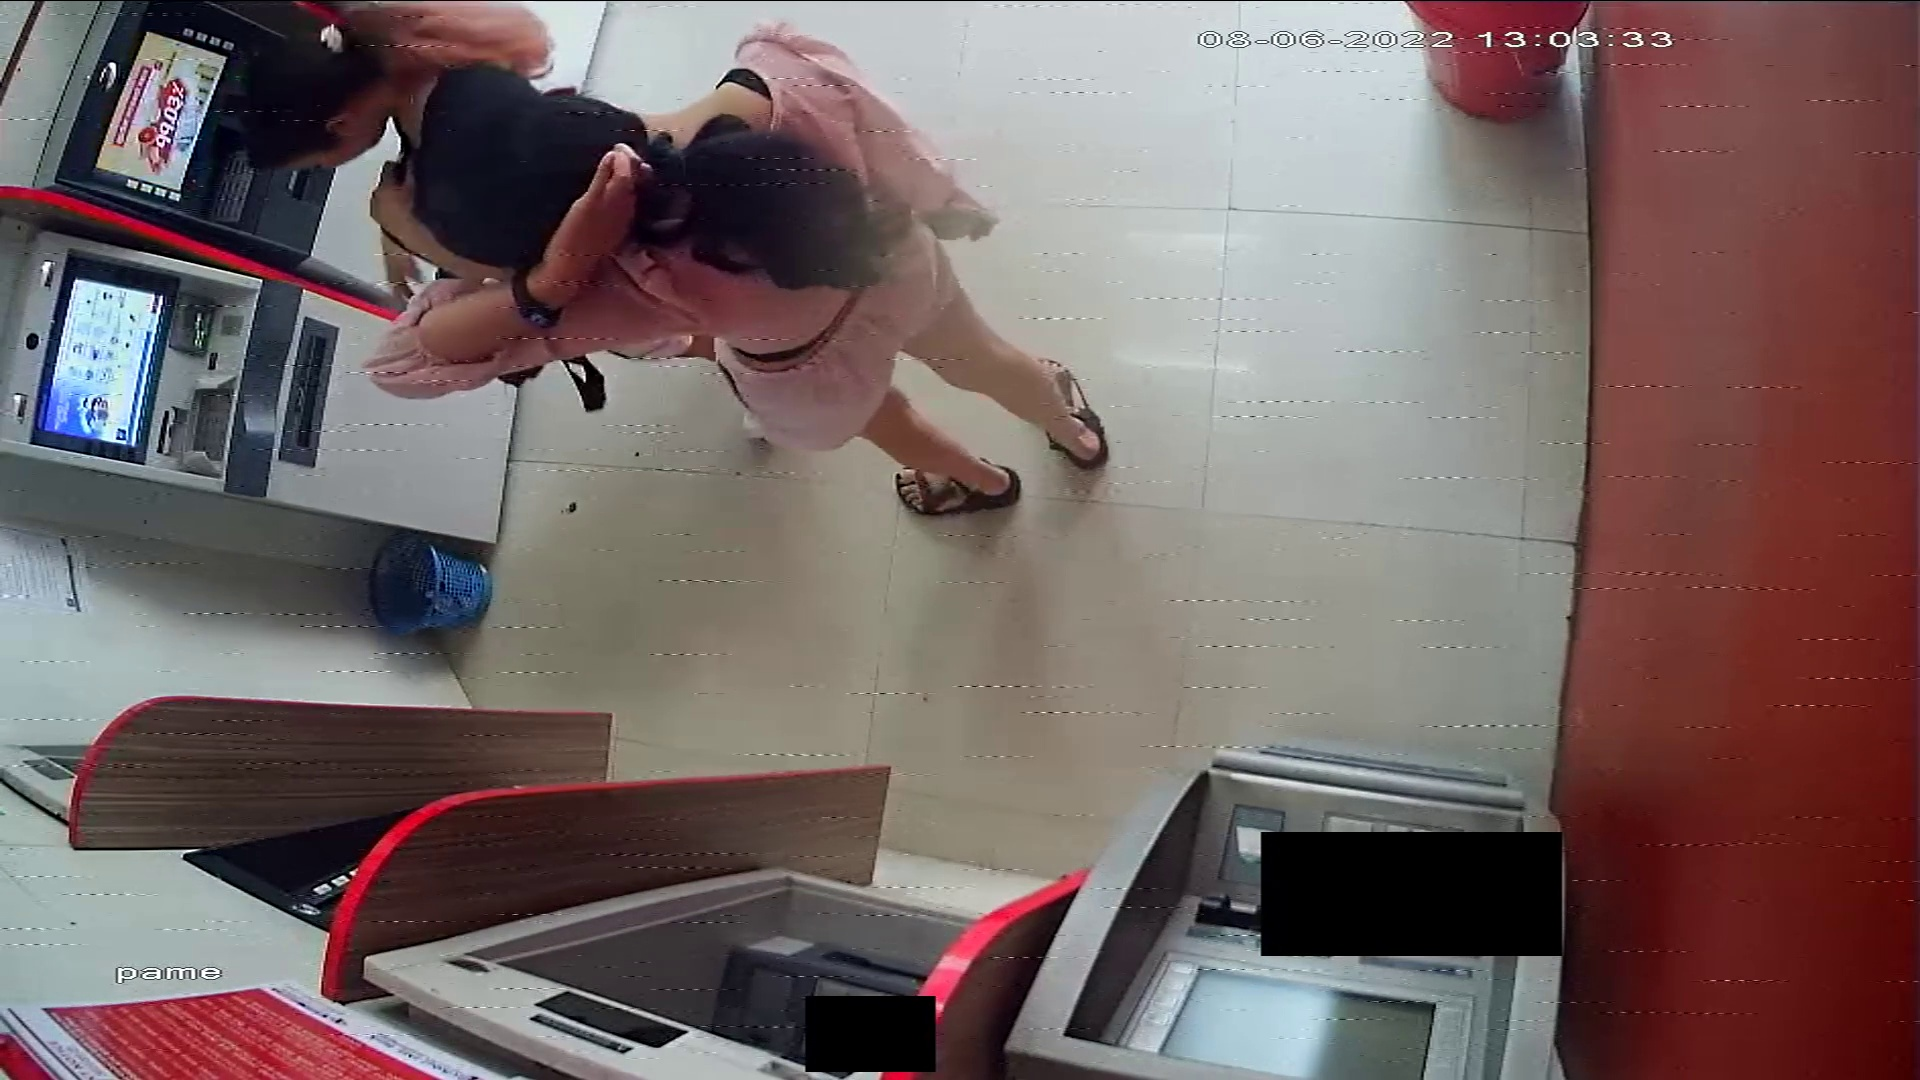person: (366, 75, 1107, 516), (239, 10, 561, 279)
